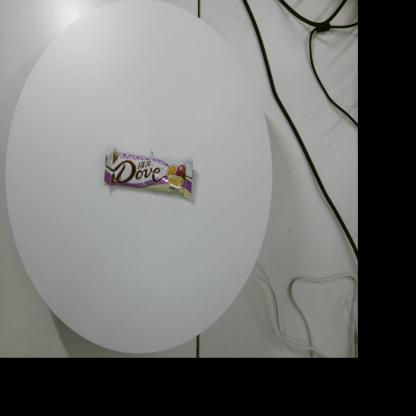Chocolate: (104, 148, 193, 198)
